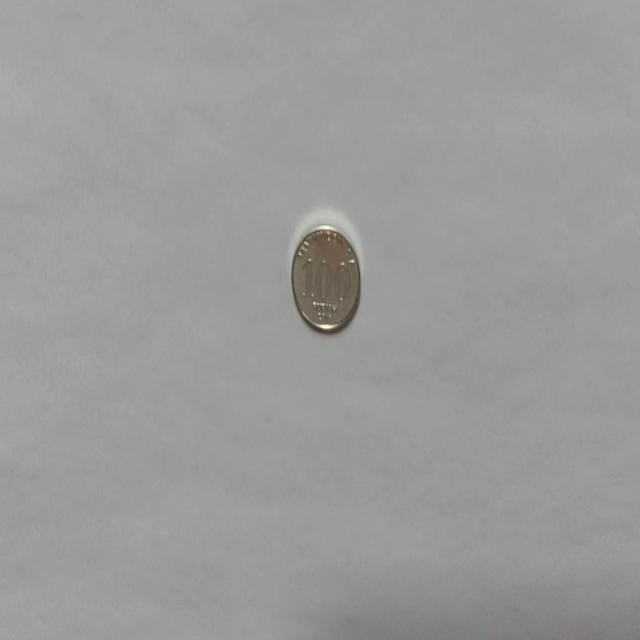seratus rupiah: (290, 222, 361, 334)
